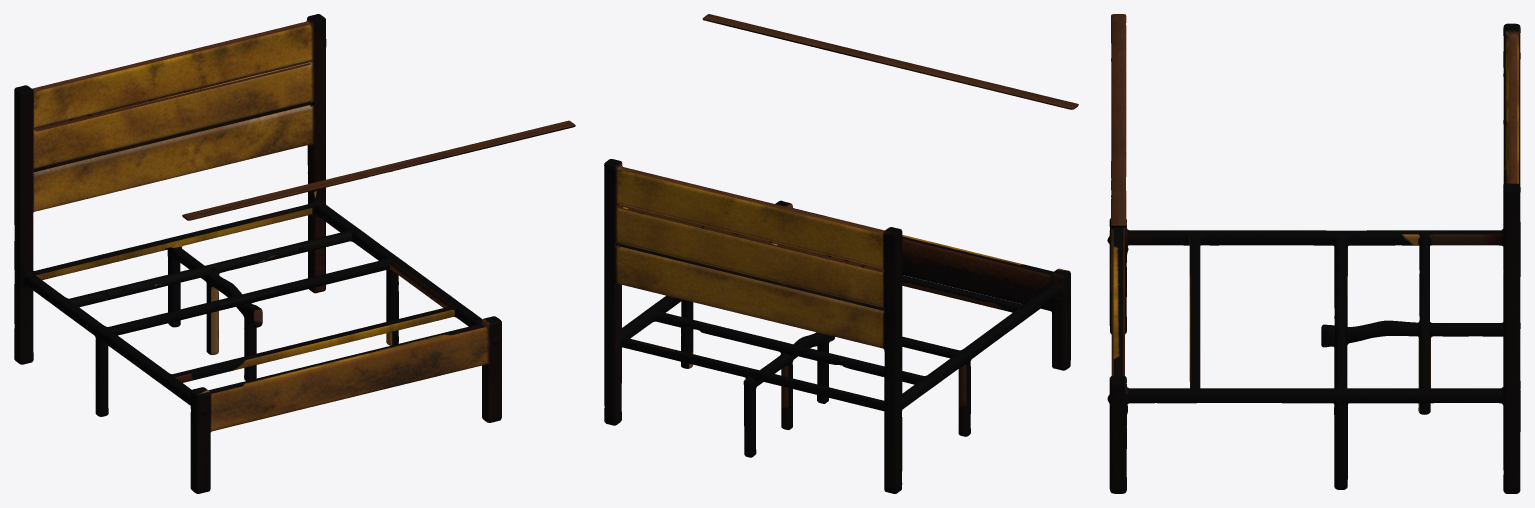
Rendered from bed__bed#2.glb.
The picture shows the model from 3 angles, left to right: view 1: azimuth 30°, elevation 25°; view 2: azimuth 150°, elevation 25°; view 3: azimuth 270°, elevation 25°; orthographic projection. The views are drawn at different scales.
Visible parts, largest first — view 1: tmprgwiub55.ply; view 2: tmprgwiub55.ply; view 3: tmprgwiub55.ply.
Part boxes in pixels (x1,y1,x2,y2): tmprgwiub55.ply: (14,14,575,493); tmprgwiub55.ply: (604,14,1078,493); tmprgwiub55.ply: (1107,14,1520,493).
Size of the model in its own units: 1.99 by 1.36 by 1.64.
1 material, 1 textured.
